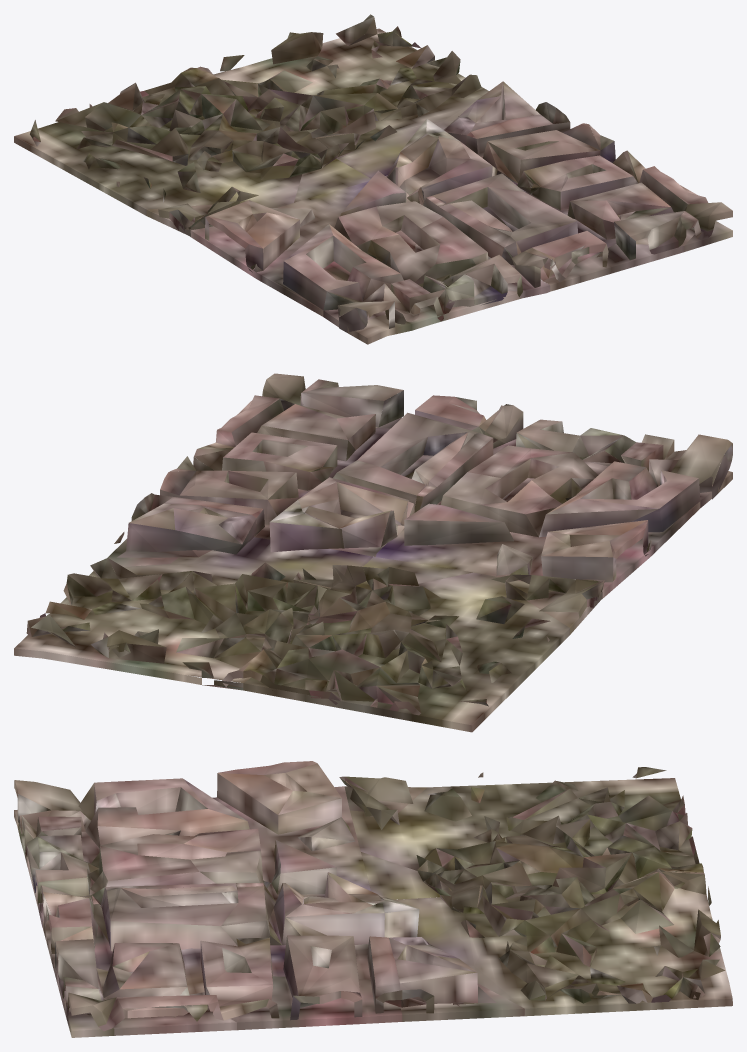
3 renders of one model, top to bottom at view 1: azimuth 30°, elevation 25°; view 2: azimuth 150°, elevation 25°; view 3: azimuth 270°, elevation 25°, orthographic. The views are drawn at different scales.
Visible parts, largest first — view 1: Mesh_0; view 2: Mesh_0; view 3: Mesh_0.
Part boxes in pixels (x1=…): Mesh_0: x1=14, y1=14, x2=732, y2=344; Mesh_0: x1=14, y1=373, x2=732, y2=732; Mesh_0: x1=14, y1=761, x2=732, y2=1037.
Bounding box in the file's own units: 532 × 49.81 × 659.
2 materials, 2 textured.
